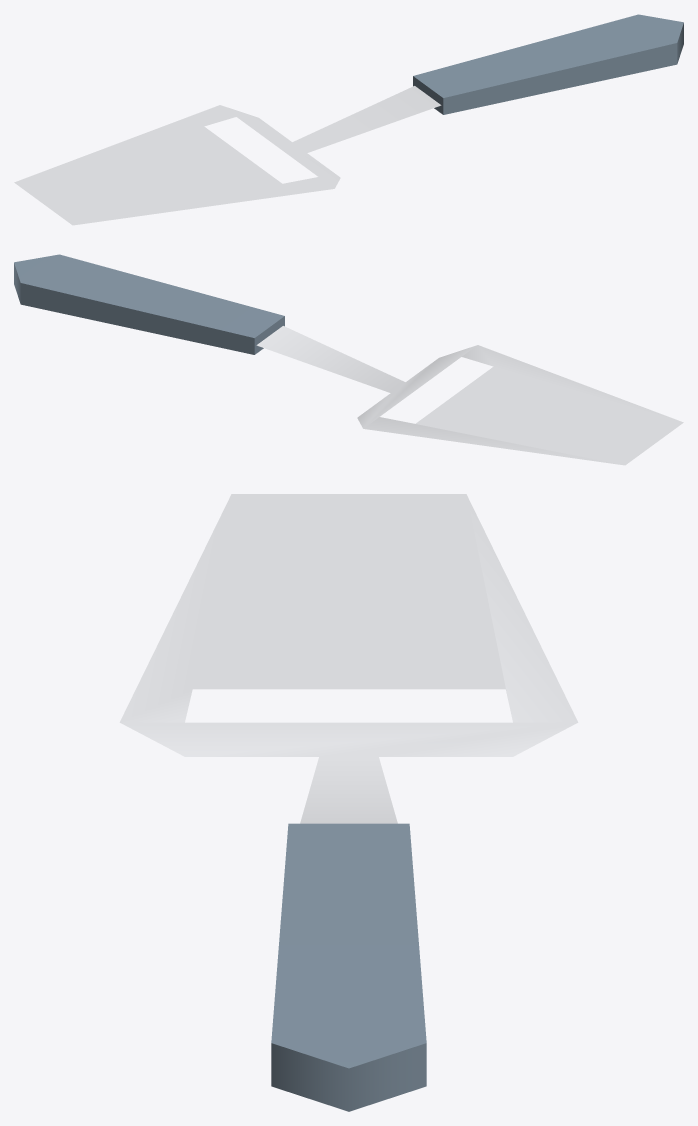
The model's file is Cheese_Slicer.glb.
3 renders of one model, top to bottom at view 1: azimuth 30°, elevation 25°; view 2: azimuth 150°, elevation 25°; view 3: azimuth 270°, elevation 25°, orthographic. The views are drawn at different scales.
Visible parts, largest first — view 1: cheeseSlicer; view 2: cheeseSlicer; view 3: cheeseSlicer.
Part boxes in pixels (bbox=[...]): cheeseSlicer: bbox=[14, 14, 683, 225]; cheeseSlicer: bbox=[14, 254, 683, 465]; cheeseSlicer: bbox=[119, 494, 578, 1111].
Size of the model in its own units: 0.6184 by 0.0292 by 0.1918.
